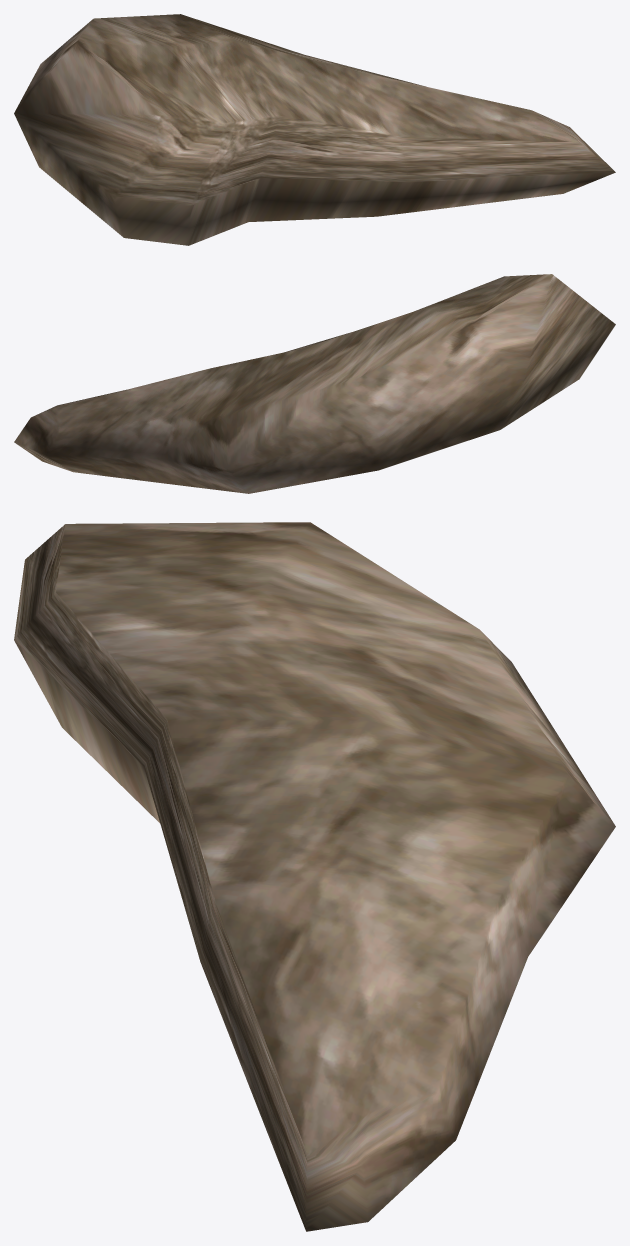
The model's file is OVERHILL_A_01_LINE304.fbx.
3 views of the same model, one above another, from view 1: azimuth 30°, elevation 25°; view 2: azimuth 150°, elevation 25°; view 3: azimuth 270°, elevation 25° (orthographic). The views are drawn at different scales.
Visible parts, largest first — view 1: OVERHILL_A_01_LINE304; view 2: OVERHILL_A_01_LINE304; view 3: OVERHILL_A_01_LINE304.
Boxes of the visible parts, x1,y1,x2,y2 form: OVERHILL_A_01_LINE304: (14, 14, 615, 245); OVERHILL_A_01_LINE304: (14, 274, 615, 493); OVERHILL_A_01_LINE304: (14, 522, 615, 1231).
Bounding box in the file's own units: 57953 × 24846 × 36711.
1 material, 1 textured.
